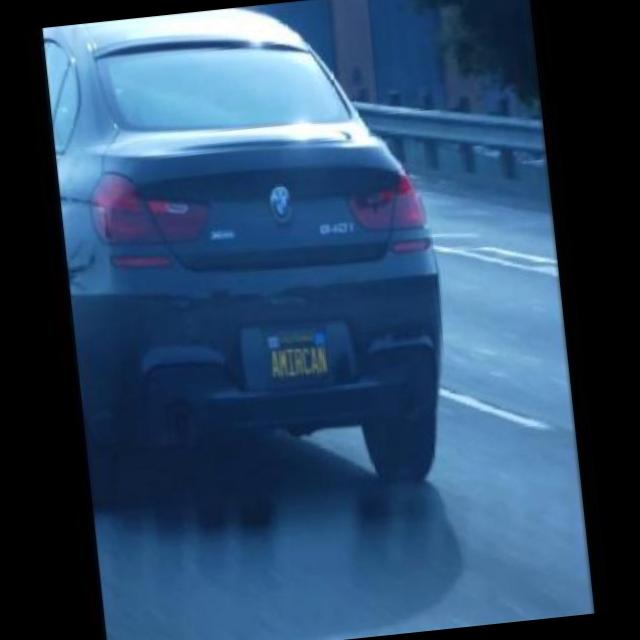LicensePlate: (260, 316, 339, 393)
